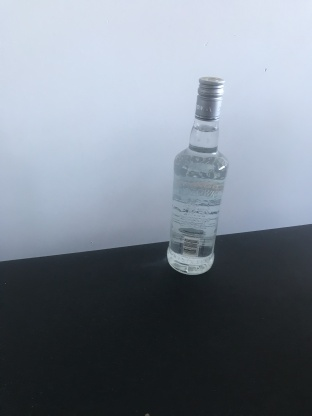nakretka: (193, 74, 225, 124)
